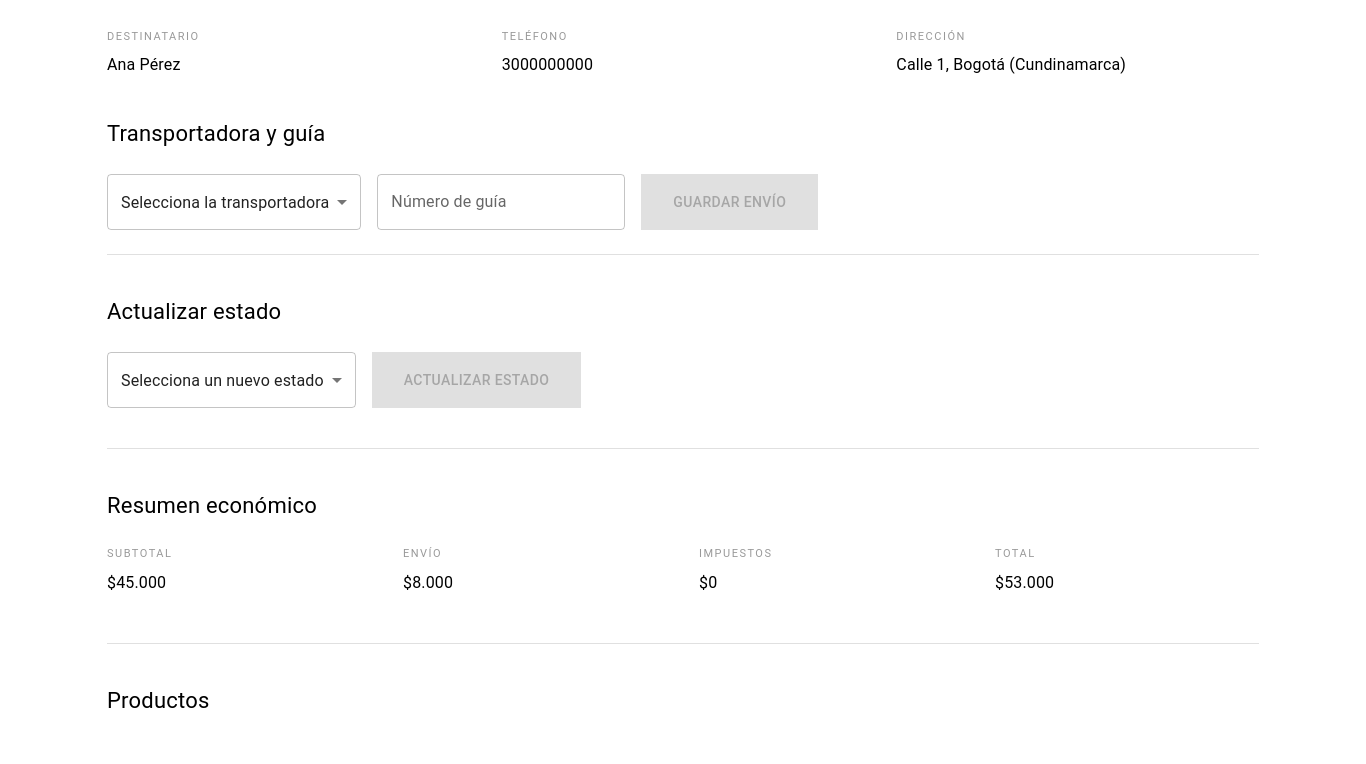
Test: AdminOrderDetail › only offers the valid next statuses for the current status
(page scrolled)
Click the dropdown "Selecciona un nuevo estado".
click(222, 380)  # box [121,370,324,390]
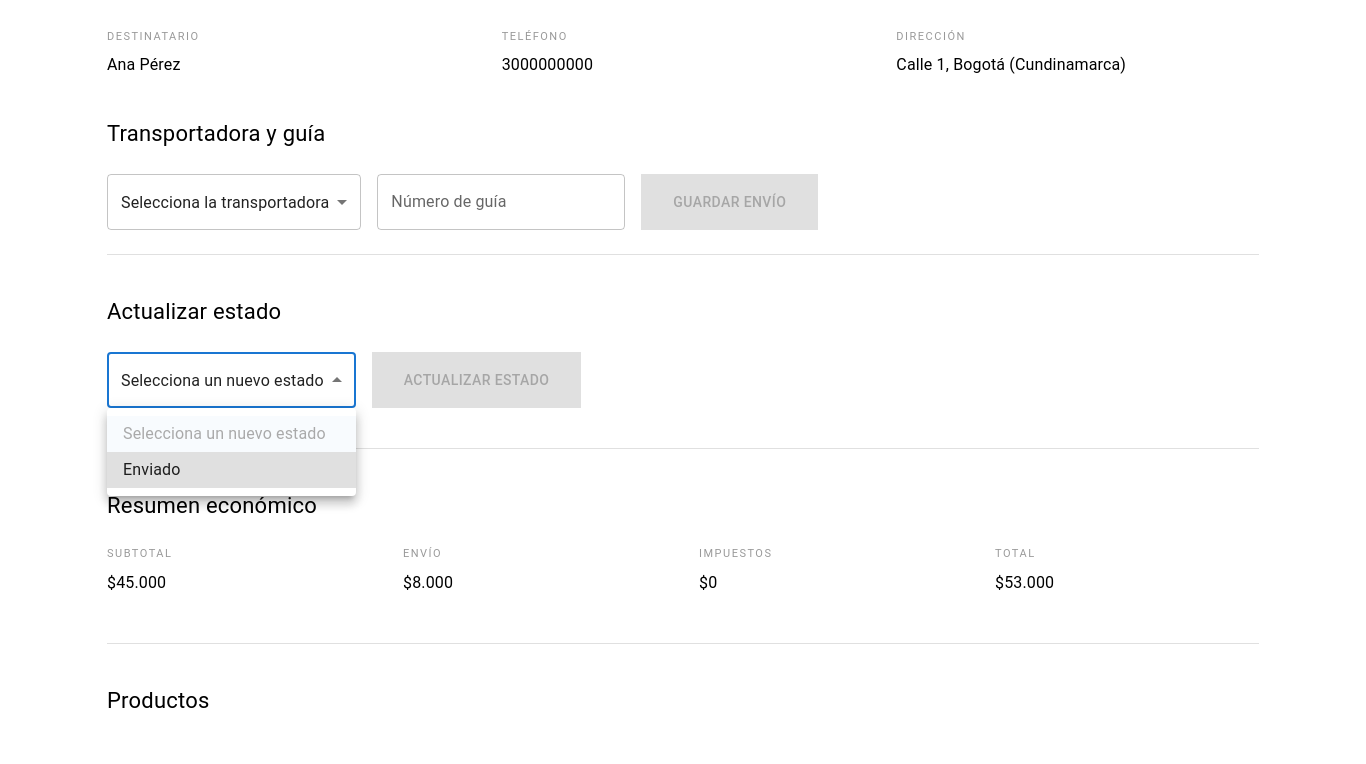
Result: the option "Enviado" is shown at [107,452,356,488]
